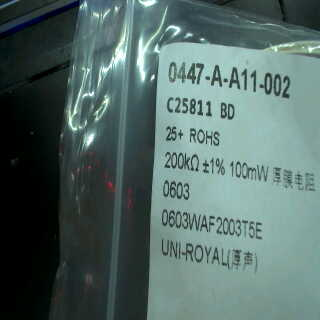200kR: (162, 148, 202, 172)
